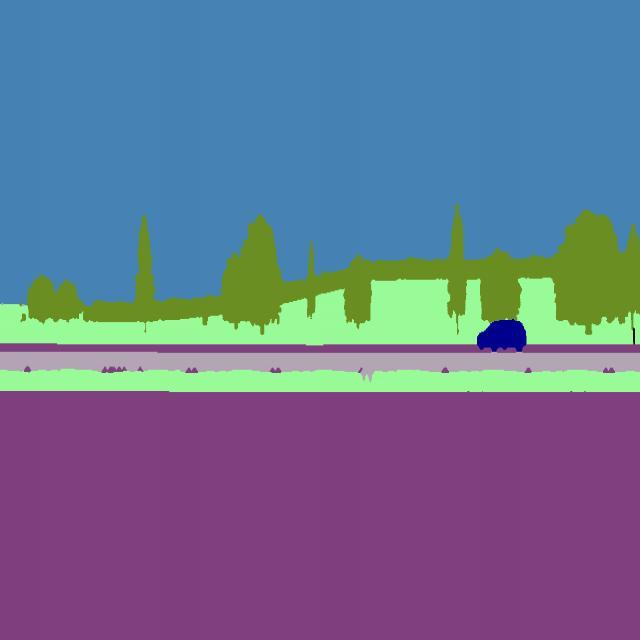safe: (471, 312, 531, 360)
